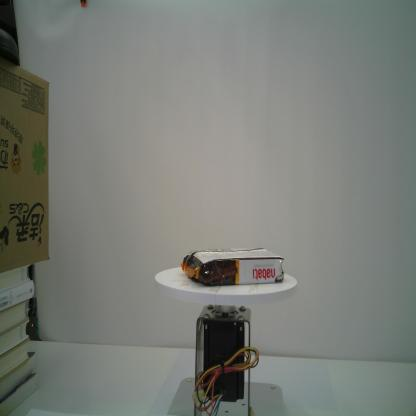Dessert: (178, 242, 286, 290)
